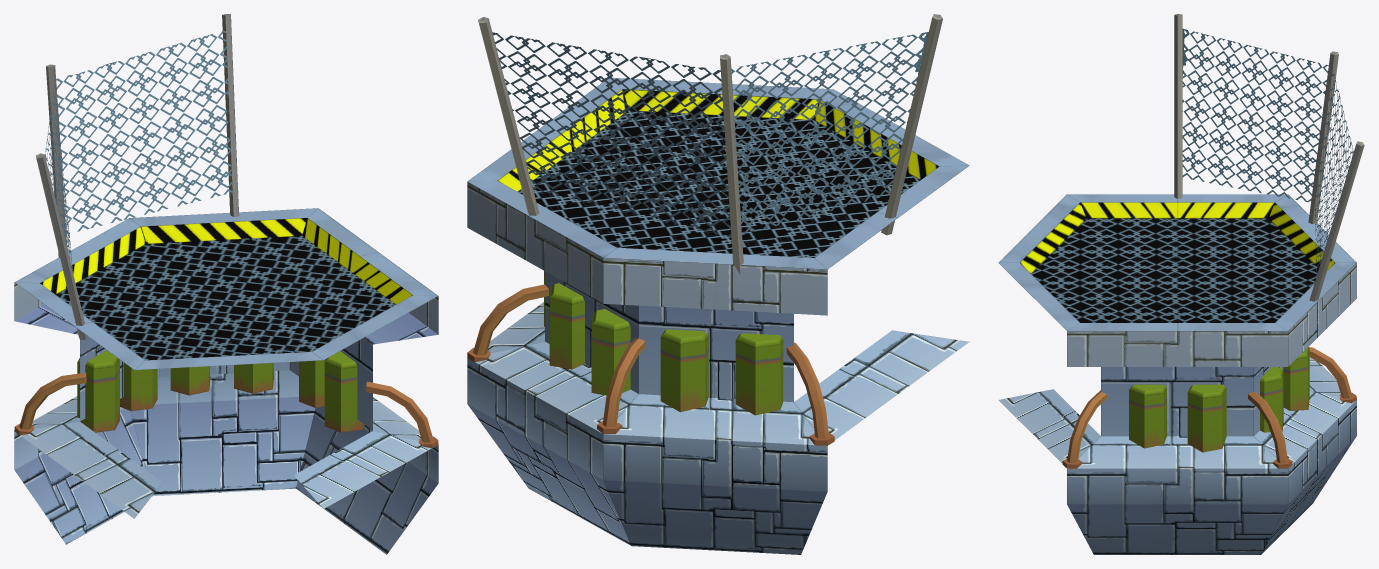
The model's file is JC_ModPanels_EnemyTile_III.obj.
3 views of the same model, side by side, from view 1: azimuth 30°, elevation 25°; view 2: azimuth 150°, elevation 25°; view 3: azimuth 270°, elevation 25° (orthographic). The views are drawn at different scales.
Visible parts, largest first — view 1: polySurface54; view 2: polySurface54; view 3: polySurface54.
Boxes of the visible parts, x1,y1,x2,y2 form: polySurface54: (14,14,438,554); polySurface54: (467,14,969,554); polySurface54: (998,14,1364,554).
Size of the model in its own units: 437 by 542 by 439.
Materials: 1 (1 with a texture image).
